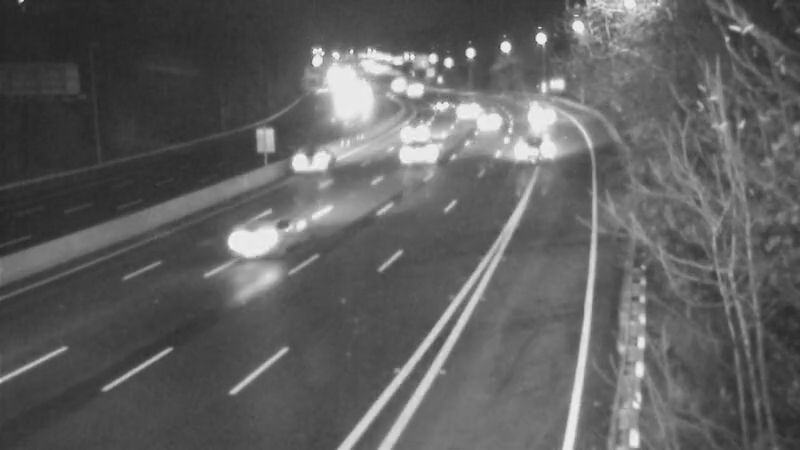vehicle: (488, 111, 568, 191), (383, 112, 463, 192), (269, 114, 349, 194), (217, 203, 297, 283), (374, 59, 424, 109), (390, 66, 440, 116), (413, 76, 463, 126), (438, 81, 488, 131), (512, 91, 562, 141), (460, 101, 510, 151), (391, 108, 441, 158), (323, 82, 373, 132)
